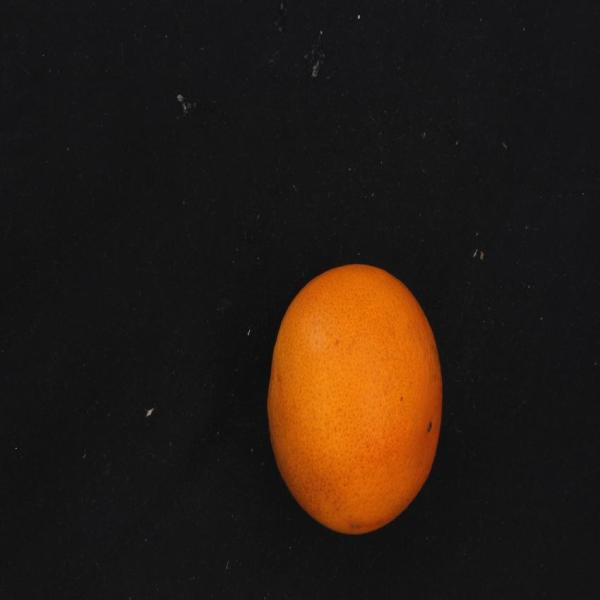Sana: (252, 252, 455, 549)
